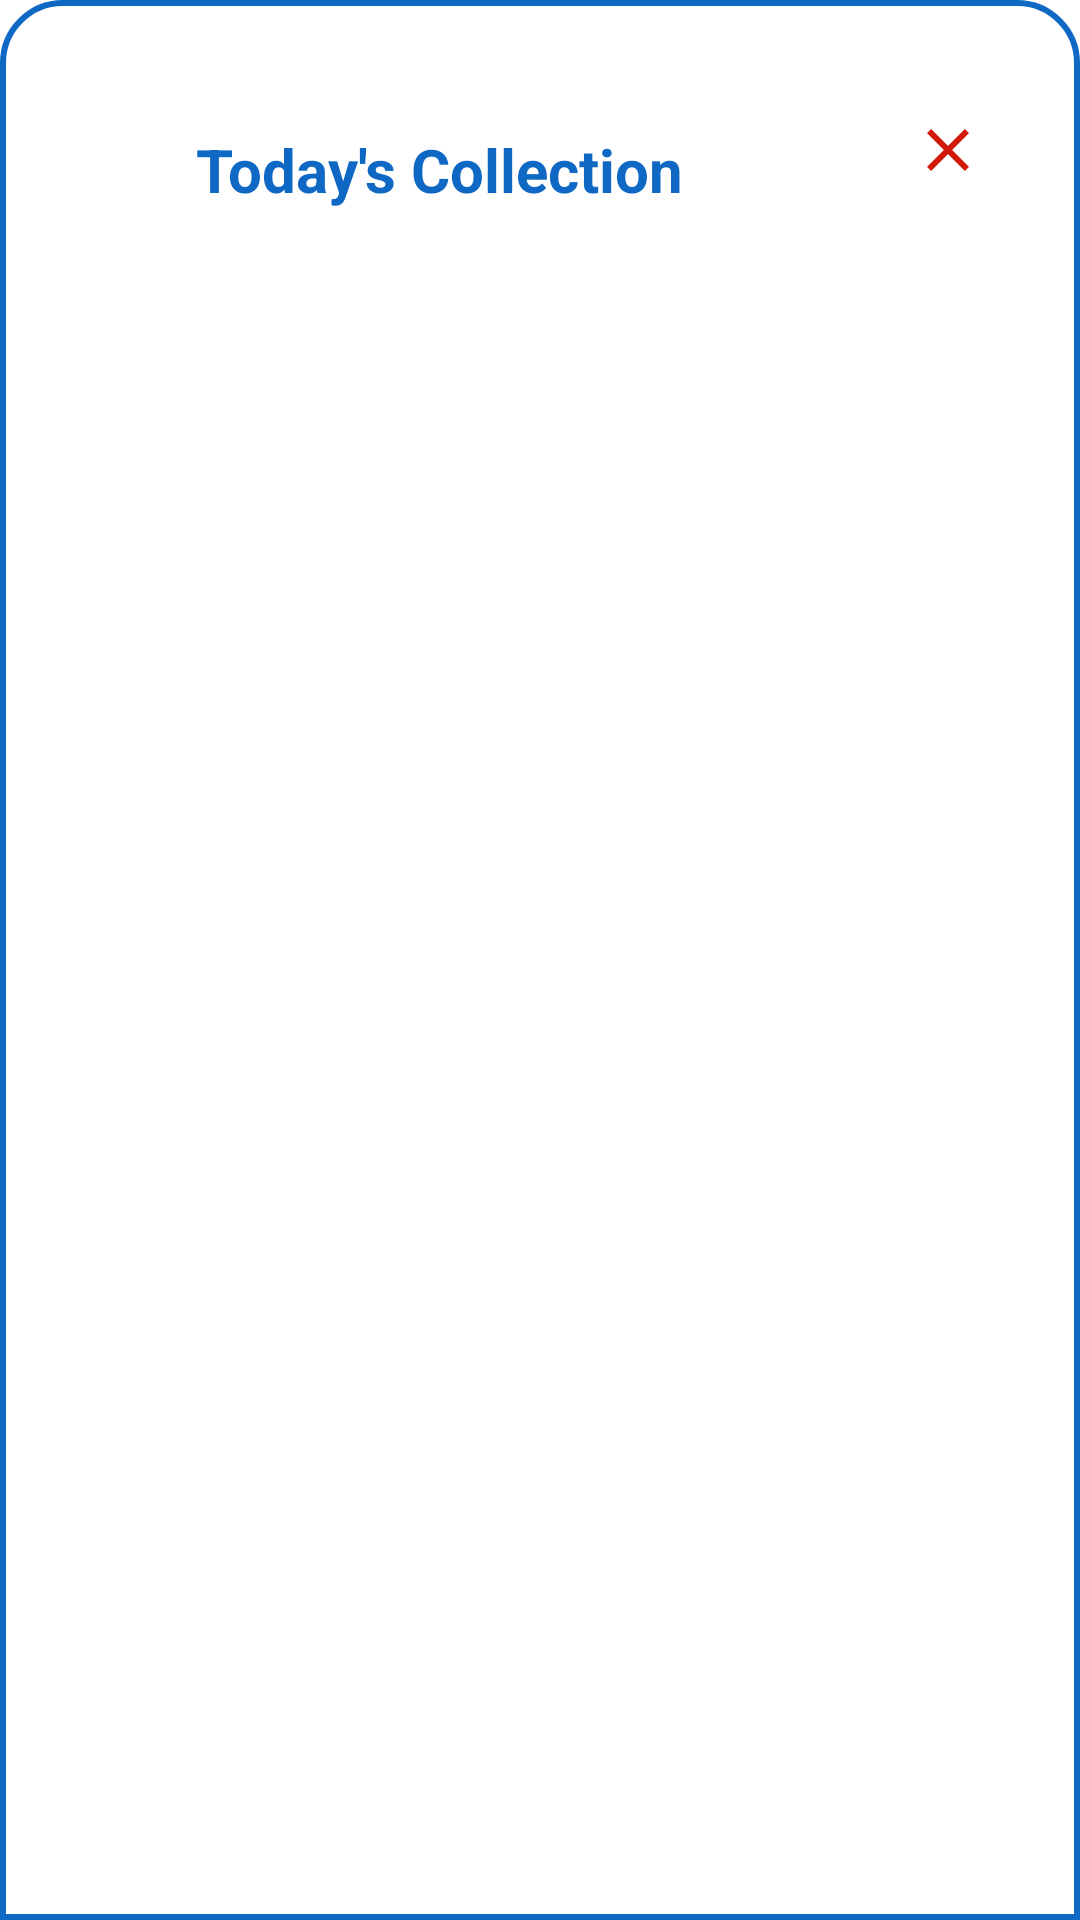

Icons on this 1080×1920 Android screen, each with its box as (x1, y1, x2, y2):
clear: (927, 129, 969, 171)
